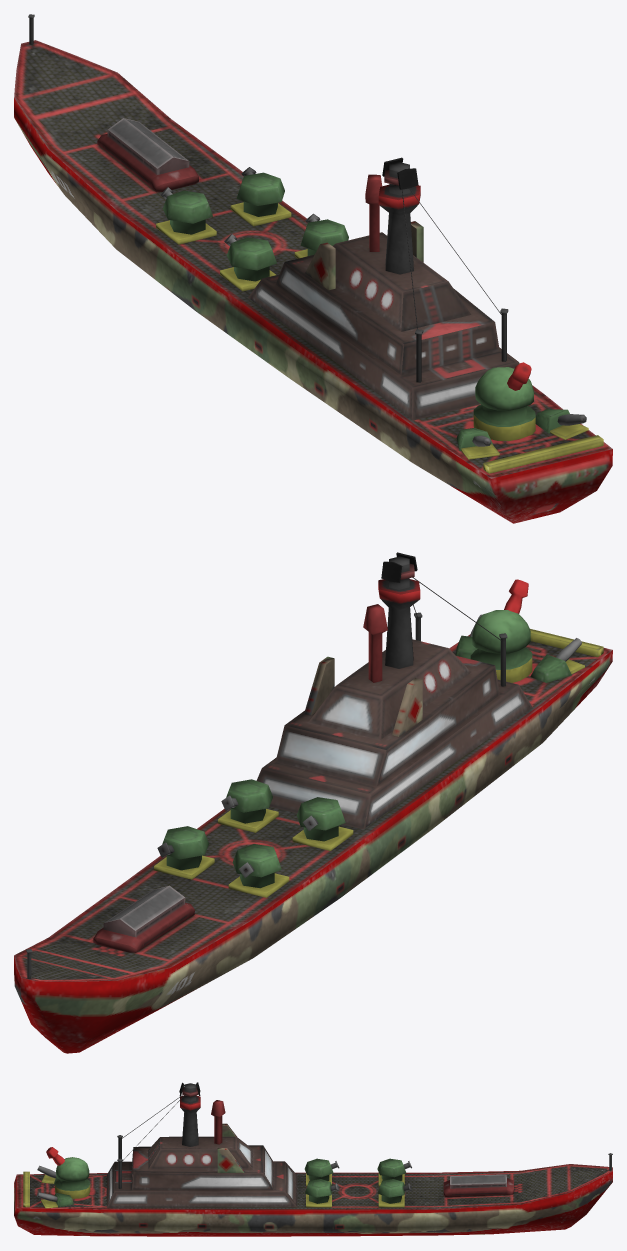
Rendered from fourdeck_lod.fbx.
The picture shows the model from 3 angles, top to bottom: view 1: azimuth 30°, elevation 25°; view 2: azimuth 150°, elevation 25°; view 3: azimuth 270°, elevation 25°; orthographic projection. The views are drawn at different scales.
Parts seen in each view (by area): view 1: fourdeck_LOD0; view 2: fourdeck_LOD0; view 3: fourdeck_LOD0.
Boxes of the visible parts, bbox=[...] form: fourdeck_LOD0: bbox=[14, 14, 612, 523]; fourdeck_LOD0: bbox=[14, 552, 612, 1053]; fourdeck_LOD0: bbox=[14, 1082, 612, 1236].
Size of what is drawn, in the model's own units: 31.76 by 53.11 by 199.
